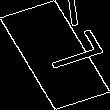L_SW: (16, 30, 94, 80)
